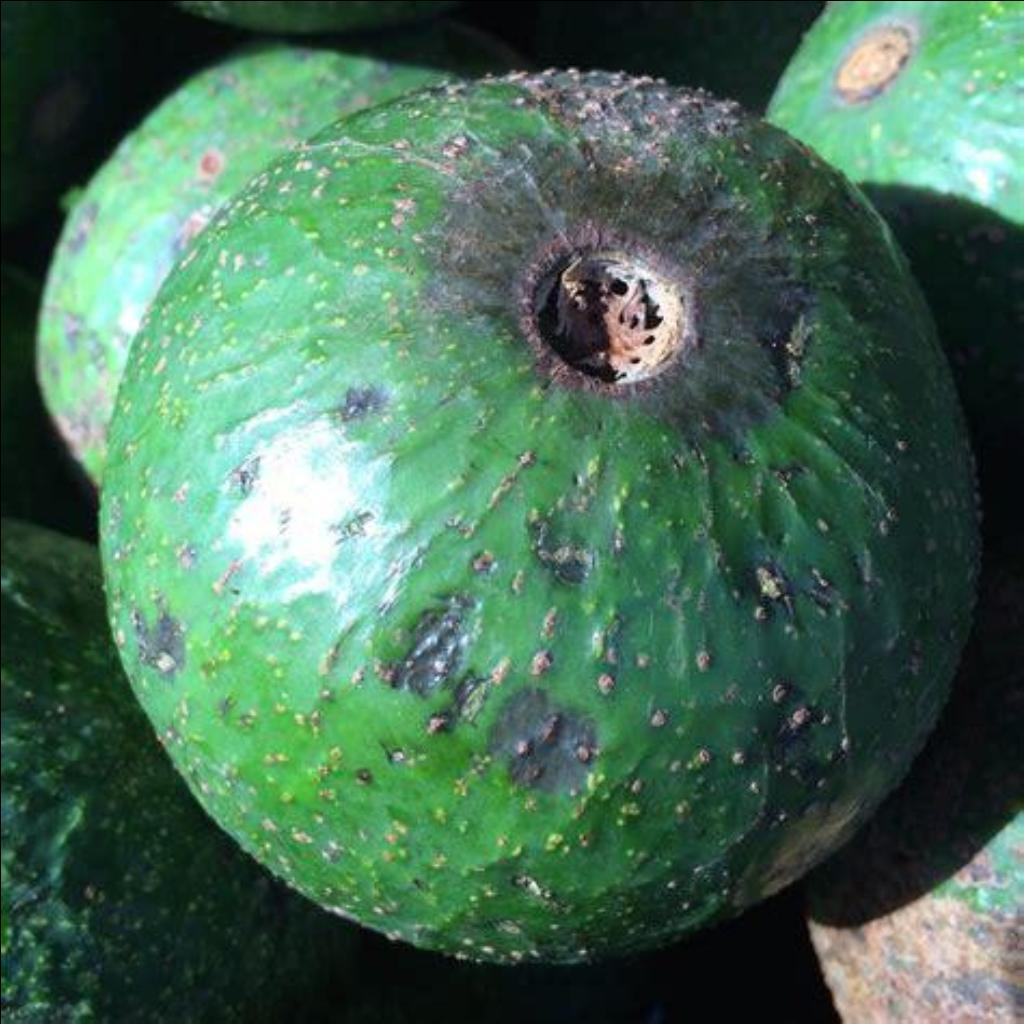Anthracnose: (158, 193, 848, 921)
